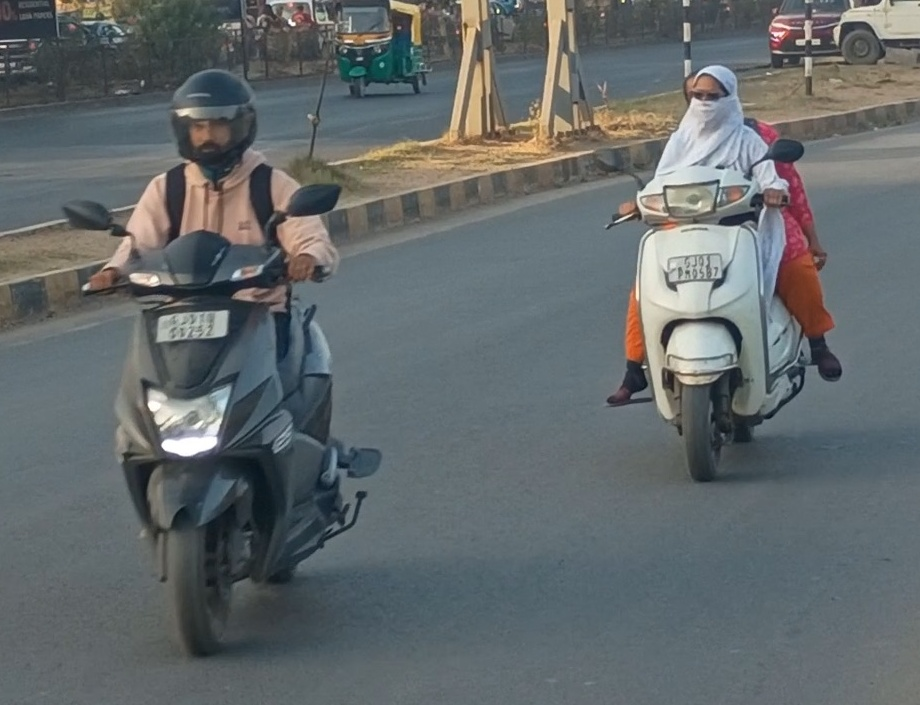BikeWithRider: (49, 64, 392, 681), (600, 59, 857, 496)
Helmet: (159, 66, 268, 174)
NoHelmet: (682, 59, 736, 120), (669, 62, 719, 111)
